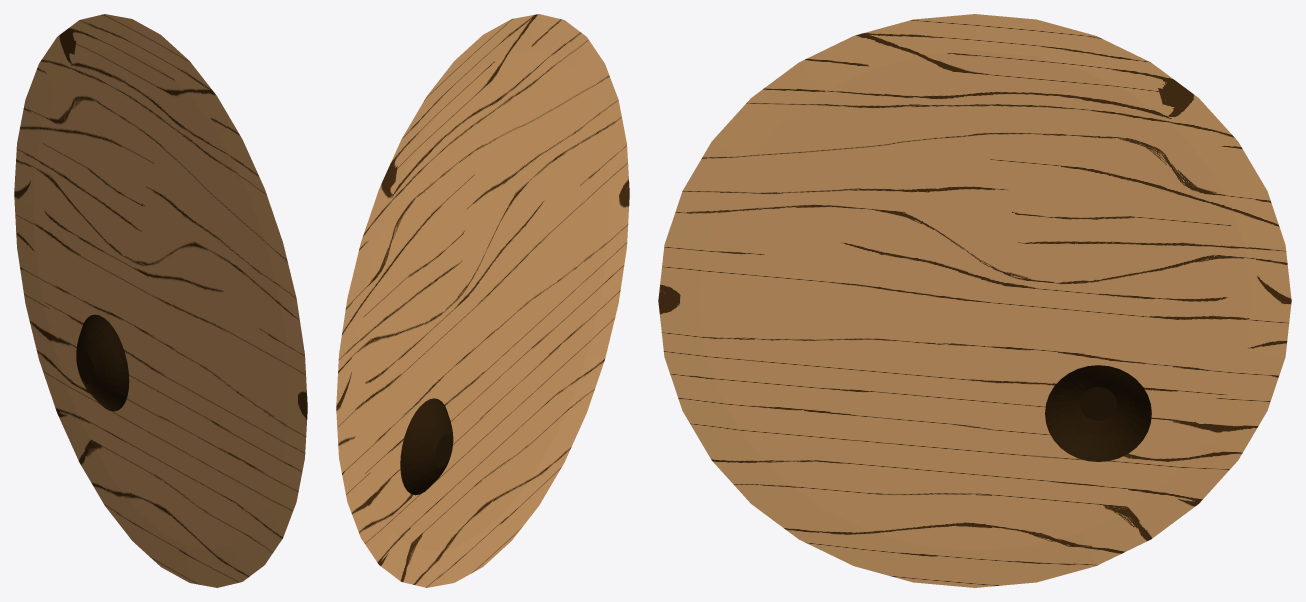
The model's file is AmmoHuDGunAmmo.fbx.
3 renders of one model, left to right at view 1: azimuth 30°, elevation 25°; view 2: azimuth 150°, elevation 25°; view 3: azimuth 270°, elevation 25°, orthographic. The views are drawn at different scales.
Visible parts, largest first — view 1: Cylinder; view 2: Cylinder; view 3: Cylinder.
Boxes of the visible parts, <box> form: Cylinder: <box>14,14,307,587</box>; Cylinder: <box>336,14,629,587</box>; Cylinder: <box>658,14,1291,587</box>.
Bounding box in the file's own units: 7.31 × 200 × 200.
Materials: 1 (1 with a texture image).
